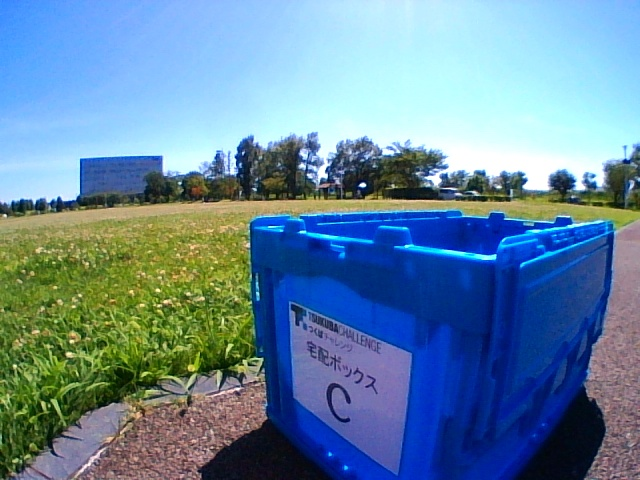blue_box: (250, 209, 613, 480)
tag_c: (316, 354, 372, 423)
